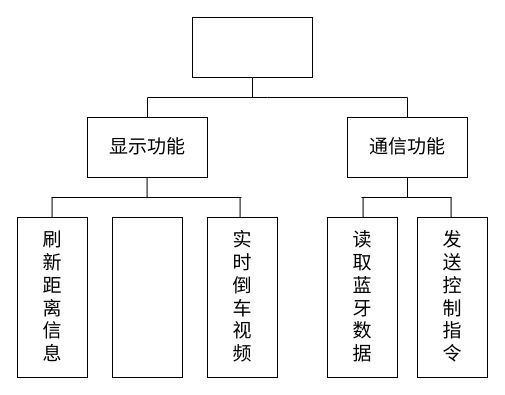
The diagram is 505 pixels wide and 395 high, and some of its shapes have lost their labels. Here are the shapes that lost their labels. From the top down, the centre of each, then its label:
At pixel 252 47: "PC 端上位机".
At pixel 147 297: "整 体 界 面 布 局".
